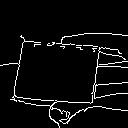cube: (13, 31, 101, 110)
